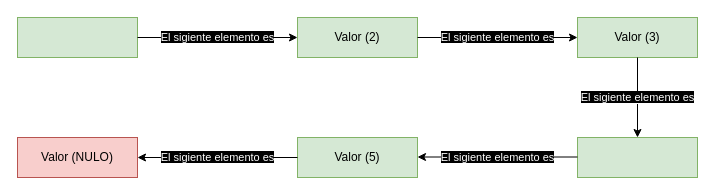
The diagram is 715 pixels wide and 195 high, and some of its shapes have lost their labels. Each missing label, with the centre of its shape:
Valor (1): pixel 77 37
Valor (4): pixel 637 157
